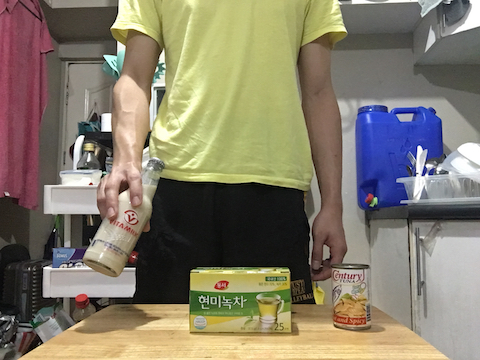bottle: (82, 154, 170, 279)
box: (186, 264, 296, 336)
can: (330, 262, 374, 334)
grab: (93, 163, 145, 218)
